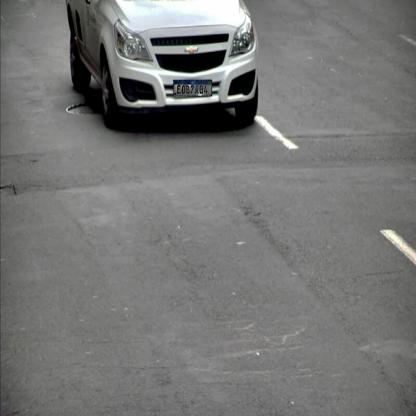PlacaM: (173, 80, 212, 96)
